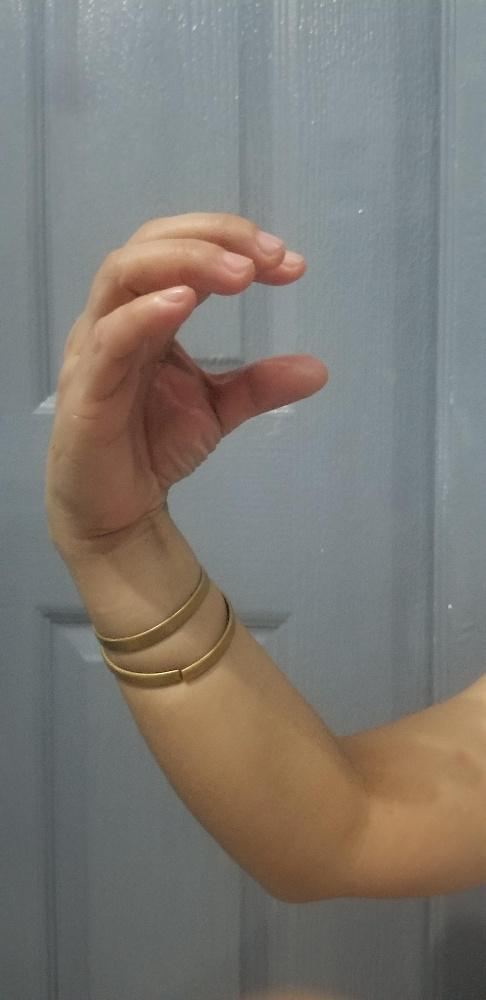c: (44, 213, 327, 534)
